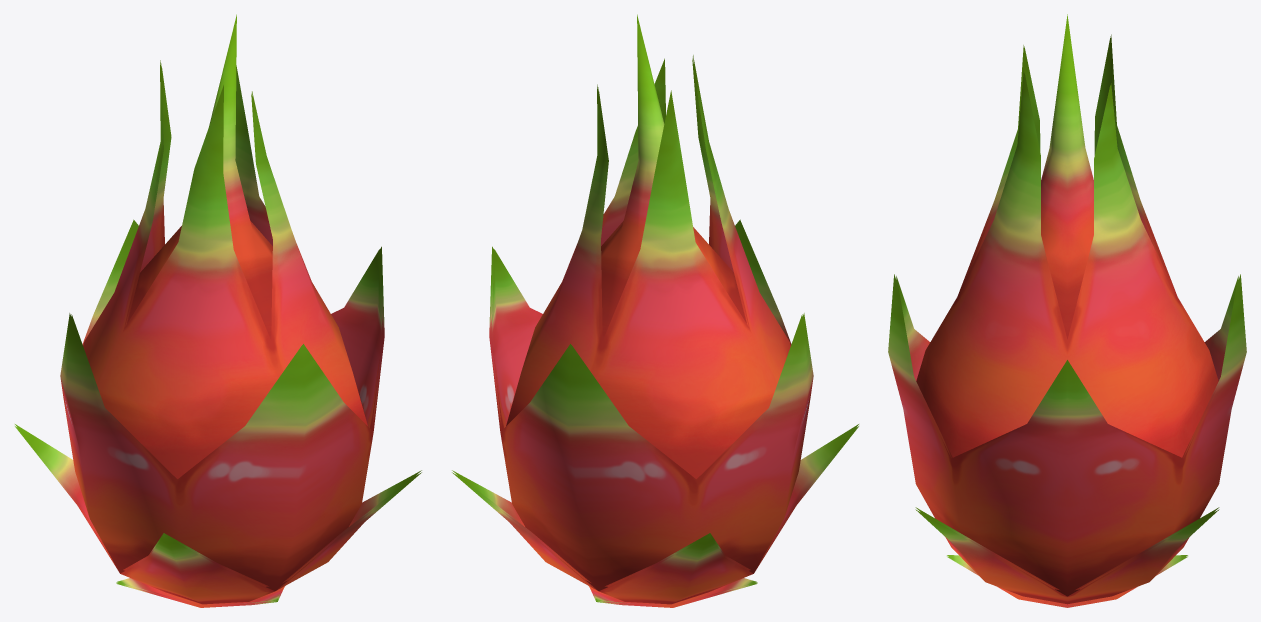
File: pitaya.fbx
3 renders of one model, left to right at view 1: azimuth 30°, elevation 25°; view 2: azimuth 150°, elevation 25°; view 3: azimuth 270°, elevation 25°, orthographic. The views are drawn at different scales.
Parts seen in each view (by area): view 1: pitaya; view 2: pitaya; view 3: pitaya.
Boxes of the visible parts, box(x1,y1,x2,y2) form: pitaya: box(15, 14, 421, 607); pitaya: box(452, 14, 858, 607); pitaya: box(888, 14, 1246, 607).
Bounding box in the file's own units: 2.05 × 3.54 × 1.98.
